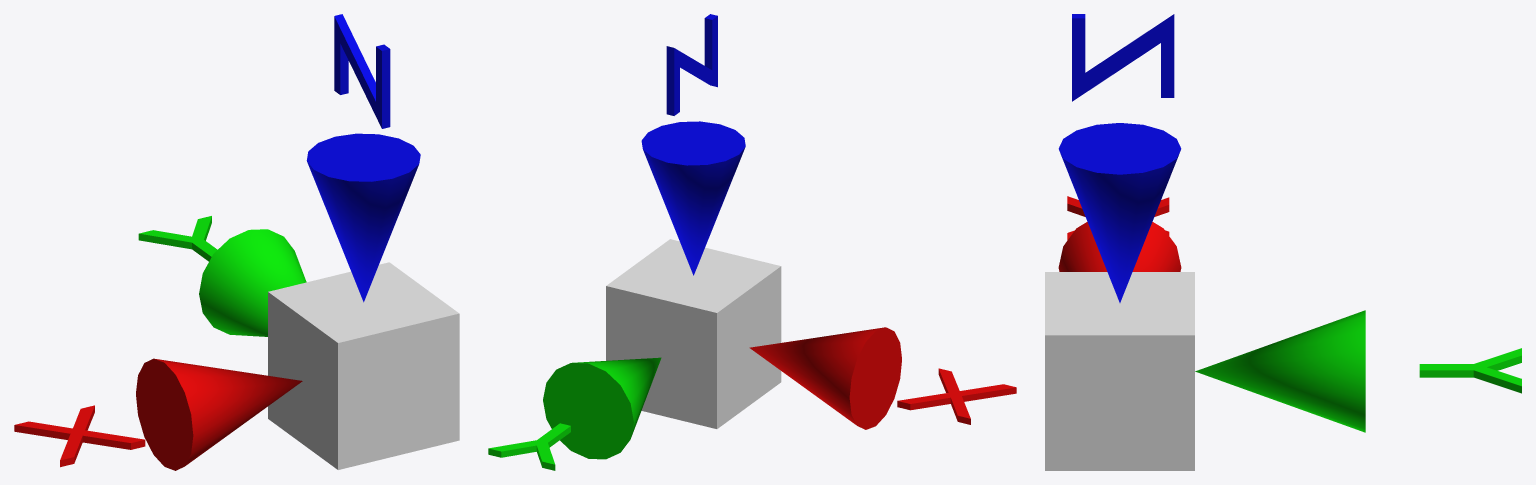
Rendered from UnityGizmo2.fbx.
3 renders of one model, left to right at view 1: azimuth 30°, elevation 25°; view 2: azimuth 150°, elevation 25°; view 3: azimuth 270°, elevation 25°, orthographic. The views are drawn at different scales.
Parts seen in each view (by area): view 1: Cube; view 2: Cube; view 3: Cube.
Boxes of the visible parts, x1,y1,x2,y2 form: Cube: [14, 14, 459, 470]; Cube: [488, 14, 1016, 470]; Cube: [1045, 14, 1521, 470].
Bounding box in the file's own units: 160 × 156 × 159.
